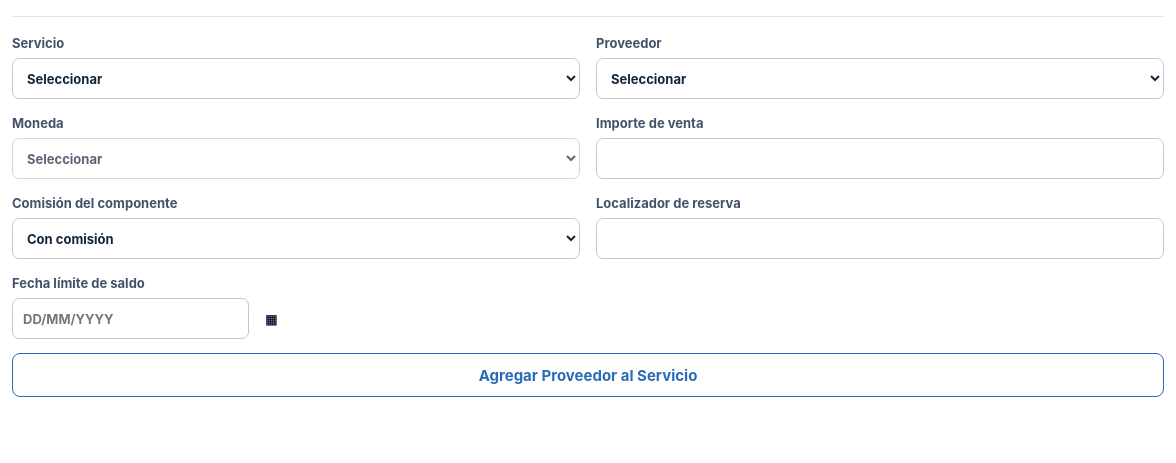
Test: ServiceProviderAssignment › keeps a failed assignment localized instead of showing a technical domain error
Step 1. Select "Hotel familiar" in the dropdown named "Servicio para Proveedor" → x=296, y=78, box [12,58,580,99]
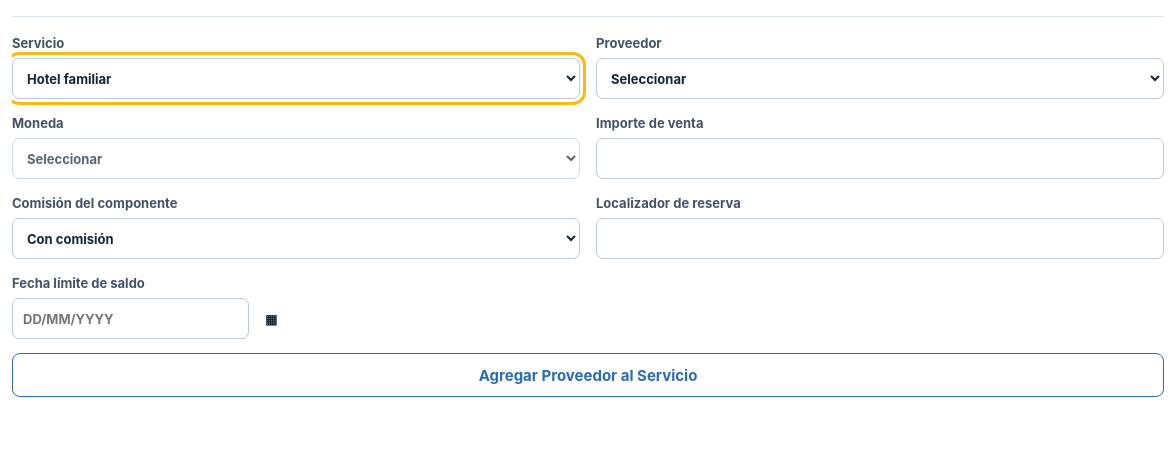
Step 2. Select "Hotel Aurora" in the dropdown named "Proveedor para Servicio" → x=880, y=78, box [596,58,1164,99]
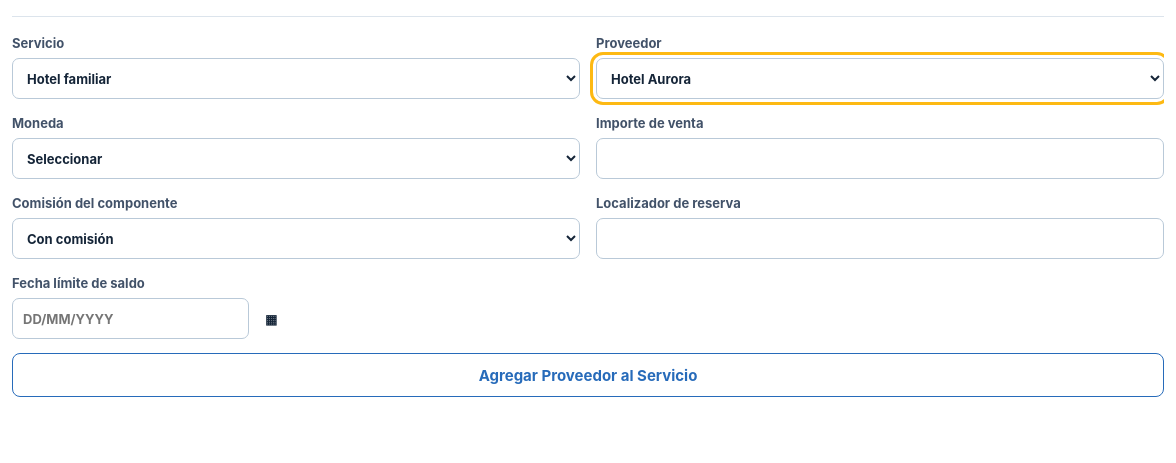
Step 3. Select "USD" in the dropdown named "Moneda del componente" → x=296, y=158, box [12,138,580,179]
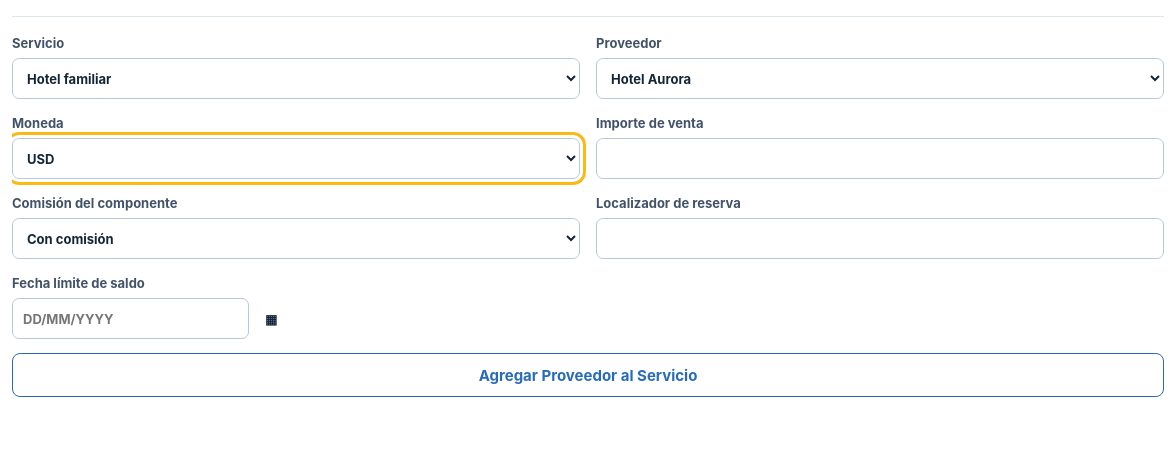
Step 4. Click the button "Agregar Proveedor al Servicio" → x=588, y=375, box [12,353,1164,397]
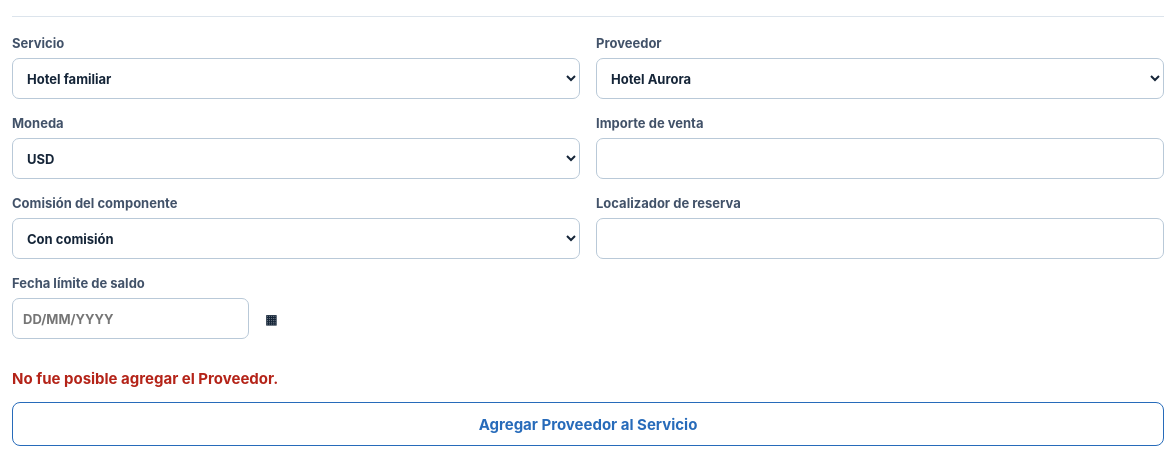
Check: the message reads "No fue posible agregar el Proveedor.", box [12,369,278,388]
